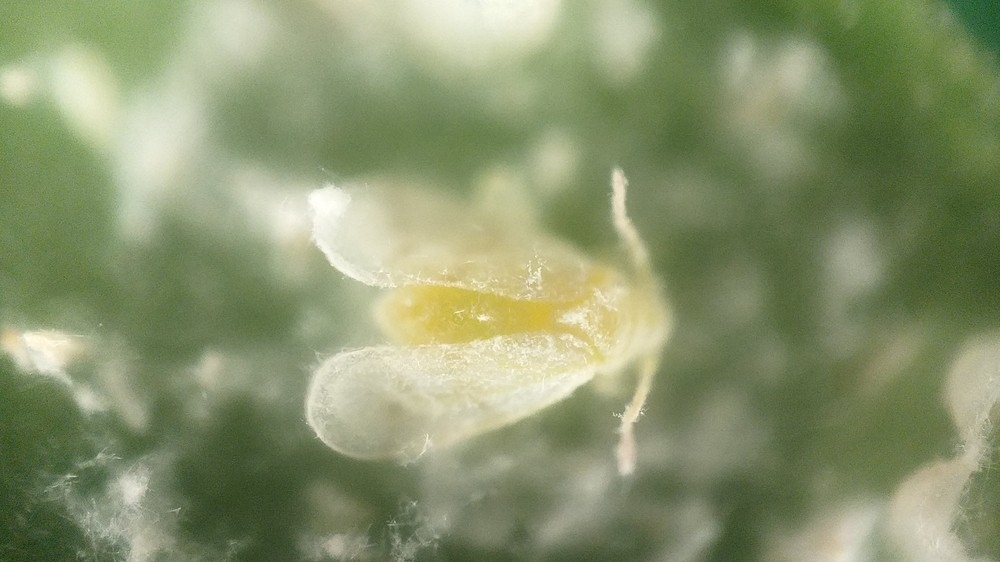Mosca Blanca: (280, 142, 695, 505)
